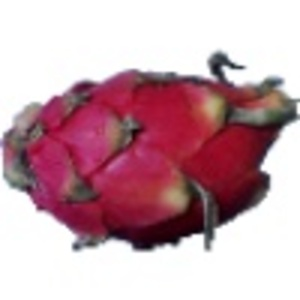pitaia: (1, 50, 300, 254)
